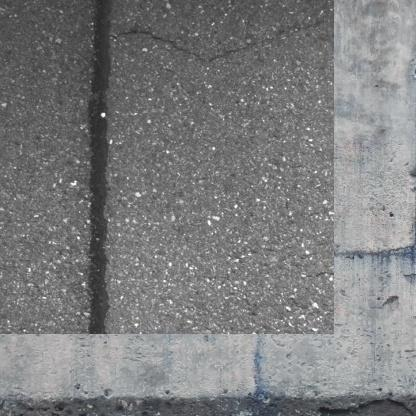Cracks: (98, 17, 302, 61)
